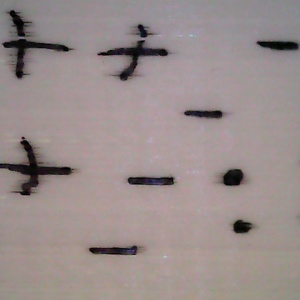3dpdot: (208, 166, 255, 193), (225, 212, 257, 239)
3dpminus: (121, 167, 184, 195), (85, 235, 144, 262), (253, 33, 300, 63), (179, 104, 227, 129)
3dpplus: (1, 8, 77, 80), (1, 134, 75, 206), (101, 22, 172, 88)
